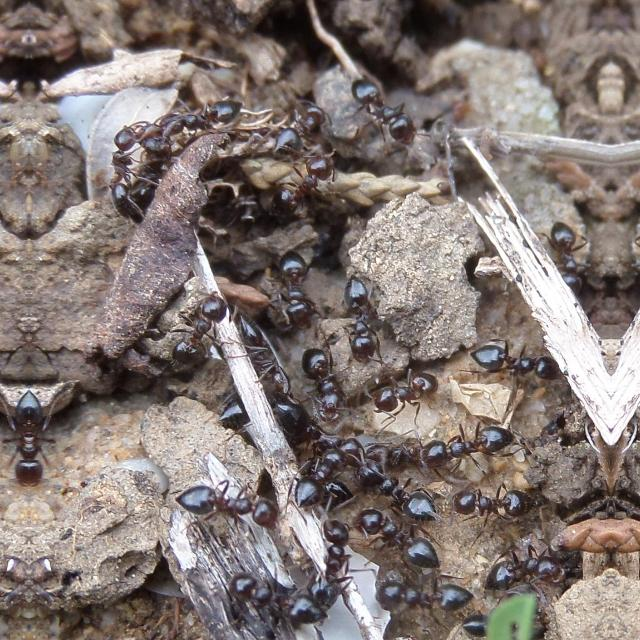Crematogaster: (173, 468, 273, 532), (363, 568, 473, 626), (229, 570, 333, 630), (234, 315, 296, 413), (334, 270, 392, 374), (463, 332, 562, 388), (352, 80, 422, 154), (260, 390, 346, 450), (441, 474, 533, 528), (308, 515, 362, 605), (420, 412, 506, 468), (363, 465, 443, 523), (472, 550, 564, 600), (261, 156, 331, 220), (302, 344, 360, 421), (356, 506, 436, 560), (182, 292, 230, 372), (98, 126, 136, 224), (368, 365, 438, 417), (278, 251, 324, 327), (28, 390, 62, 490), (166, 86, 242, 130), (553, 221, 591, 301), (274, 94, 322, 154), (0, 389, 28, 490), (308, 436, 348, 492), (630, 221, 640, 301)
